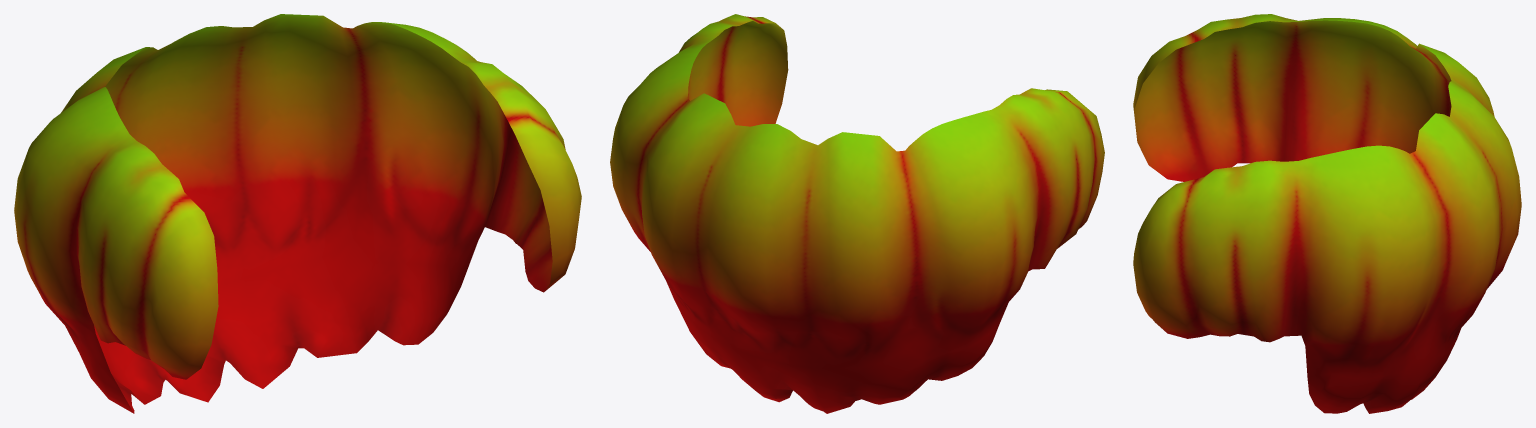
Rendered from HairBack_Crown.obj.
3 views of the same model, side by side, from view 1: azimuth 30°, elevation 25°; view 2: azimuth 150°, elevation 25°; view 3: azimuth 270°, elevation 25° (orthographic). The views are drawn at different scales.
Parts seen in each view (by area): view 1: HairBack_Crown_0; view 2: HairBack_Crown_0; view 3: HairBack_Crown_0.
Boxes of the visible parts, x1=… form: HairBack_Crown_0: x1=14, y1=14, x2=581, y2=413; HairBack_Crown_0: x1=610, y1=14, x2=1104, y2=413; HairBack_Crown_0: x1=1133, y1=14, x2=1521, y2=413.
Bounding box in the file's own units: 0.2108 × 0.1542 × 0.1759.
1 material, 1 textured.
